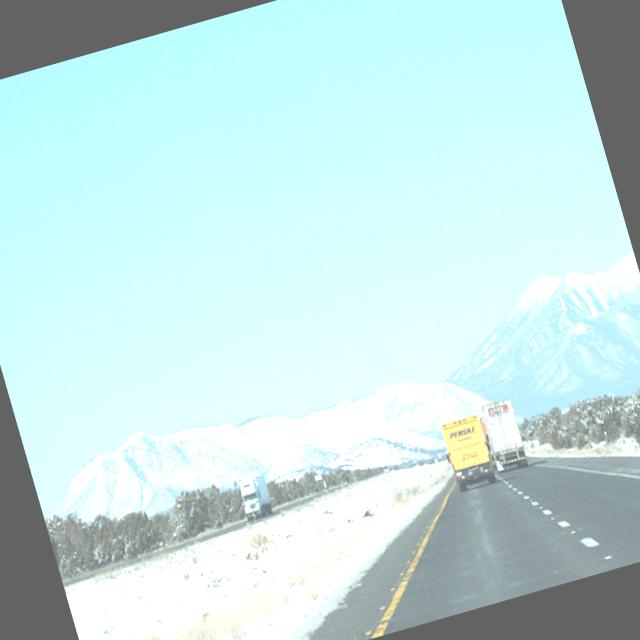Vehicle: (438, 413, 498, 492), (479, 398, 530, 473), (235, 473, 276, 523)
